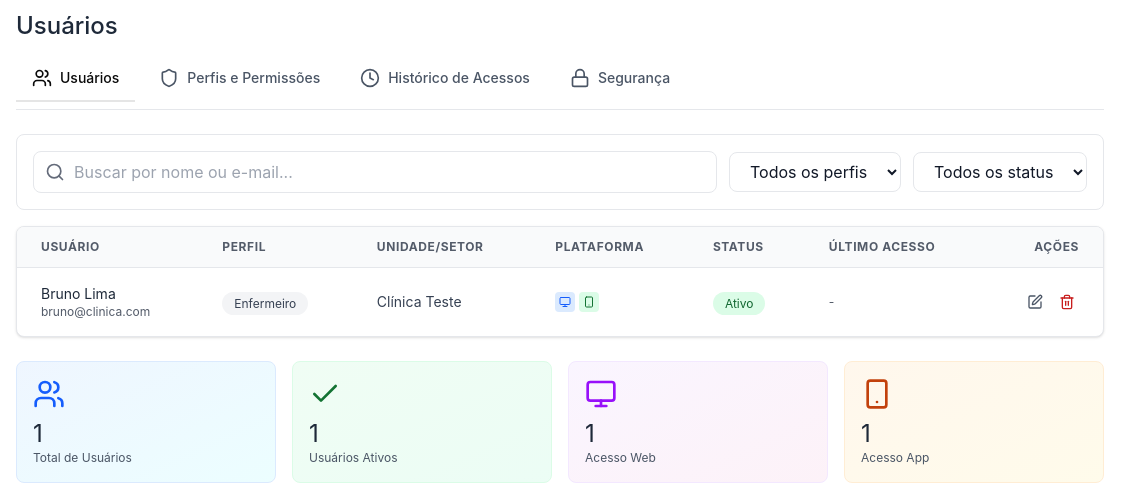
Test: Usuários: auditoria das mudanças › excluir um usuário: ele sai da lista e a exclusão vai para a auditoria
This screenshot has width=1121, height=500.
Expected: the text "Bruno Lima" is shown, [41,285,116,302]
Click the button titled "Excluir": [1067, 302] box [1055,290,1079,314]
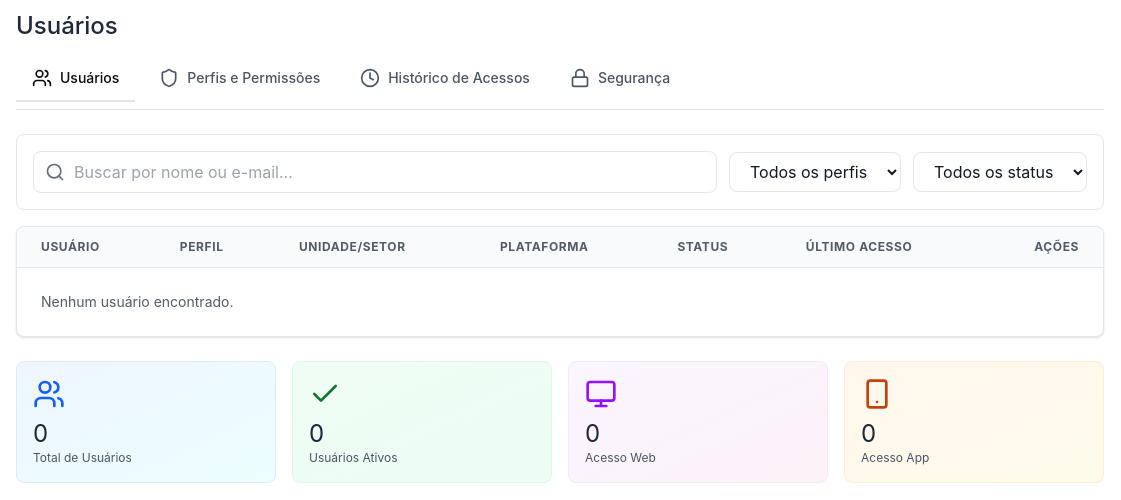
Now the text "Bruno Lima" is gone
